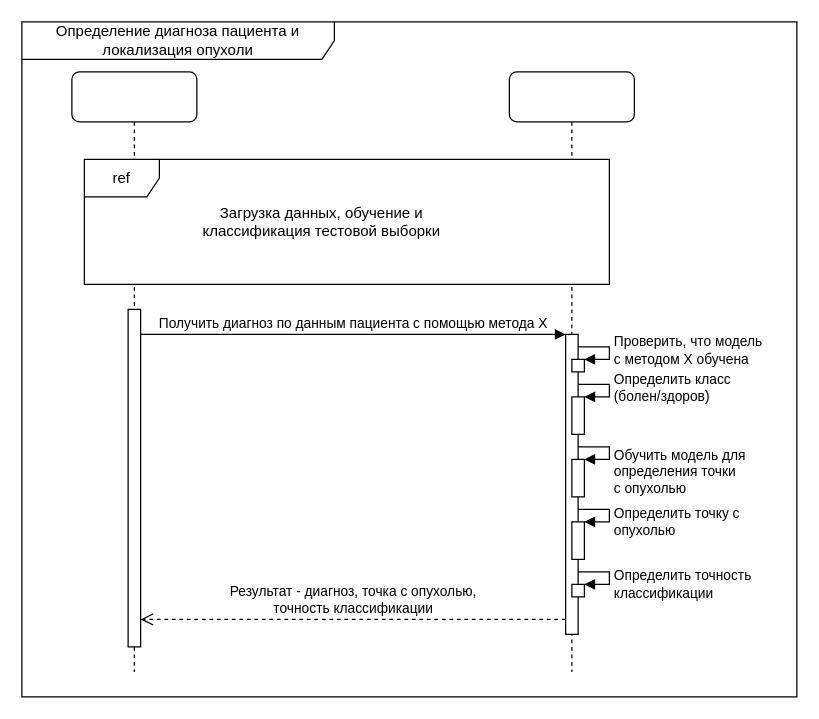
Some shapes in this 819 by 719 pixel diagram are drawn without their labels. Each missing label, with the box of its shape:
:Клиент: (71, 71, 197, 672)
:Сервер: (508, 71, 634, 672)
